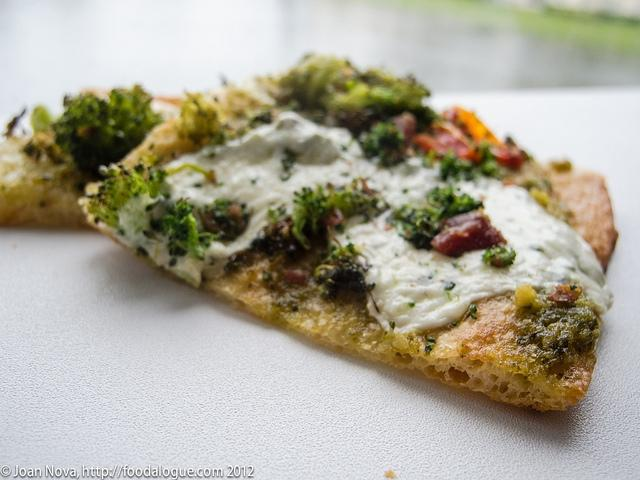broccoli: (48, 84, 162, 181), (313, 70, 437, 134), (266, 54, 366, 126), (386, 182, 484, 252), (518, 298, 600, 376), (87, 164, 171, 228), (293, 177, 380, 233), (24, 108, 76, 187), (160, 196, 222, 259), (315, 243, 377, 300), (174, 90, 224, 146), (358, 121, 412, 171), (200, 198, 250, 241), (250, 216, 306, 251), (472, 142, 508, 182), (440, 149, 478, 183), (481, 242, 516, 268)
